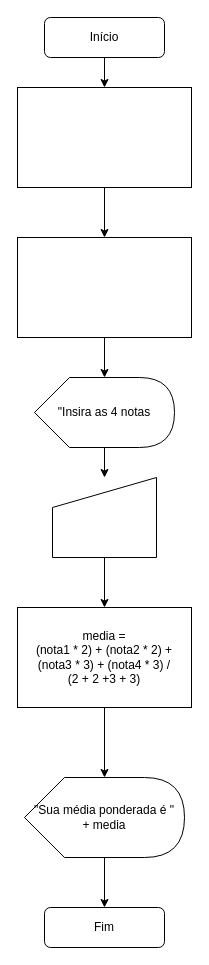
Some shapes in this 209 by 965 pixel diagram are drawn without their labels. The centre of each missing label's shape, as x and y in pixels:
"float nota1 = 0 float nota2 = 0 float nota3 = 0 float nota4 = 0" goes at (x=104, y=287).
"float nota1 float nota2 float nota3 float nota4 float media" goes at (x=104, y=137).
"nota1, nota2, nota3, nota4" goes at (x=104, y=517).
